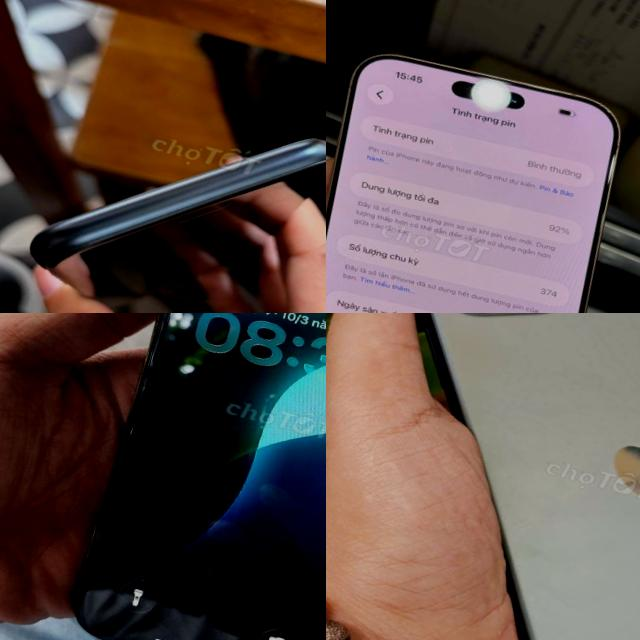scratch: (6, 62, 326, 313), (128, 340, 162, 392), (80, 508, 112, 548), (119, 416, 138, 439)
